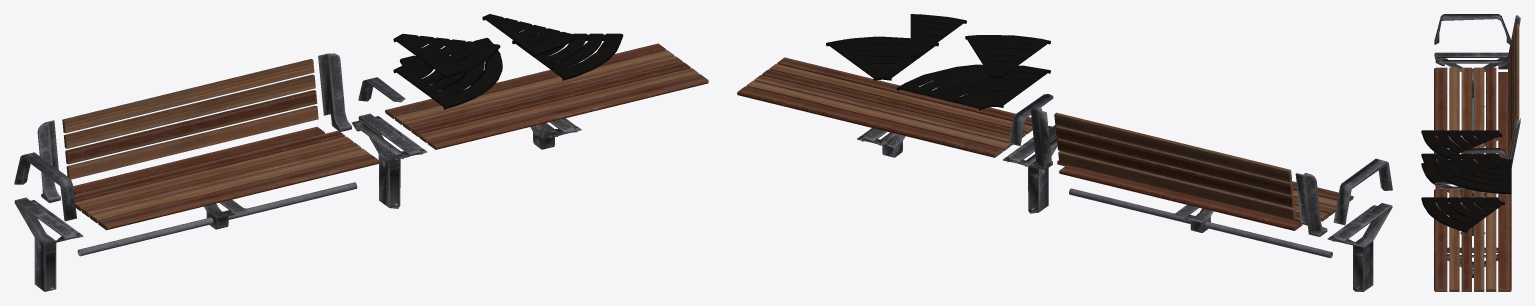
The model's file is modular_street_seating.glb.
3 renders of one model, left to right at view 1: azimuth 30°, elevation 25°; view 2: azimuth 150°, elevation 25°; view 3: azimuth 270°, elevation 25°, orthographic. The views are drawn at different scales.
Parts seen in each view (by area): view 1: seat_back, seat, seat_bench, connector_90, legs_double, connector_45, legs_single, connector_60, crossbar, connector_30, back_support_l, arm_rest_01 (+4 smaller); view 2: seat_bench, seat_back, connector_90, seat, connector_60, legs_single, connector_45, crossbar, legs_double, connector_30, arm_rest_01, back_support_r (+4 smaller); view 3: seat_bench, seat, connector_90, connector_60, connector_45, seat_back, connector_30, legs_single, arm_rest_01, back_support_r, legs_double, back_support_l (+2 smaller).
Boxes of the visible parts, left/top/right/bottom form: seat_back: left=62, top=59, right=318, bottom=179; seat: left=73, top=127, right=379, bottom=230; seat_bench: left=385, top=43, right=708, bottom=149; connector_90: left=393, top=37, right=502, bottom=109; legs_double: left=351, top=113, right=427, bottom=208; connector_45: left=393, top=33, right=500, bottom=78; legs_single: left=14, top=197, right=83, bottom=291; connector_60: left=512, top=33, right=623, bottom=80; crossbar: left=77, top=182, right=357, bottom=256; connector_30: left=482, top=14, right=577, bottom=56; back_support_l: left=318, top=53, right=351, bottom=131; arm_rest_01: left=14, top=152, right=76, bottom=221; seat_bench: left=737, top=57, right=1032, bottom=157; seat_back: left=1054, top=112, right=1295, bottom=220; connector_90: left=896, top=64, right=1050, bottom=110; seat: left=1057, top=160, right=1353, bottom=230; connector_60: left=826, top=36, right=938, bottom=80; legs_single: left=1327, top=203, right=1392, bottom=291; connector_45: left=965, top=35, right=1050, bottom=78; crossbar: left=1069, top=188, right=1332, bottom=258; legs_double: left=1003, top=125, right=1058, bottom=213; connector_30: left=910, top=14, right=966, bottom=57; arm_rest_01: left=1333, top=158, right=1392, bottom=225; back_support_r: left=1295, top=173, right=1327, bottom=236; seat_bench: left=1434, top=189, right=1511, bottom=291; seat: left=1434, top=67, right=1508, bottom=162; connector_90: left=1421, top=153, right=1511, bottom=194; connector_60: left=1421, top=197, right=1504, bottom=232; connector_45: left=1421, top=130, right=1502, bottom=159; seat_back: left=1508, top=24, right=1519, bottom=157; connector_30: left=1421, top=163, right=1500, bottom=184; legs_single: left=1434, top=52, right=1508, bottom=106; arm_rest_01: left=1434, top=14, right=1510, bottom=44; back_support_r: left=1498, top=15, right=1520, bottom=69; legs_double: left=1434, top=180, right=1485, bottom=235; back_support_l: left=1508, top=118, right=1520, bottom=167.
Bounding box in the file's own units: 4.34 × 0.95 × 0.7704.
Materials: 4 (4 with a texture image).
